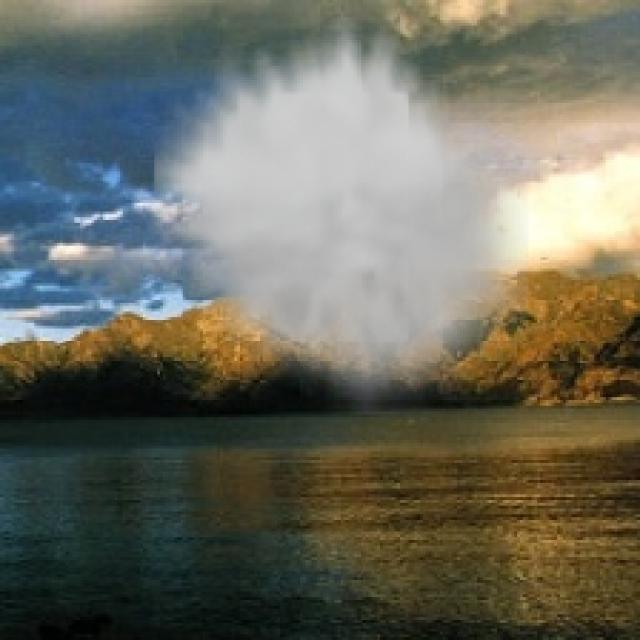Smoke: (154, 17, 529, 414)
